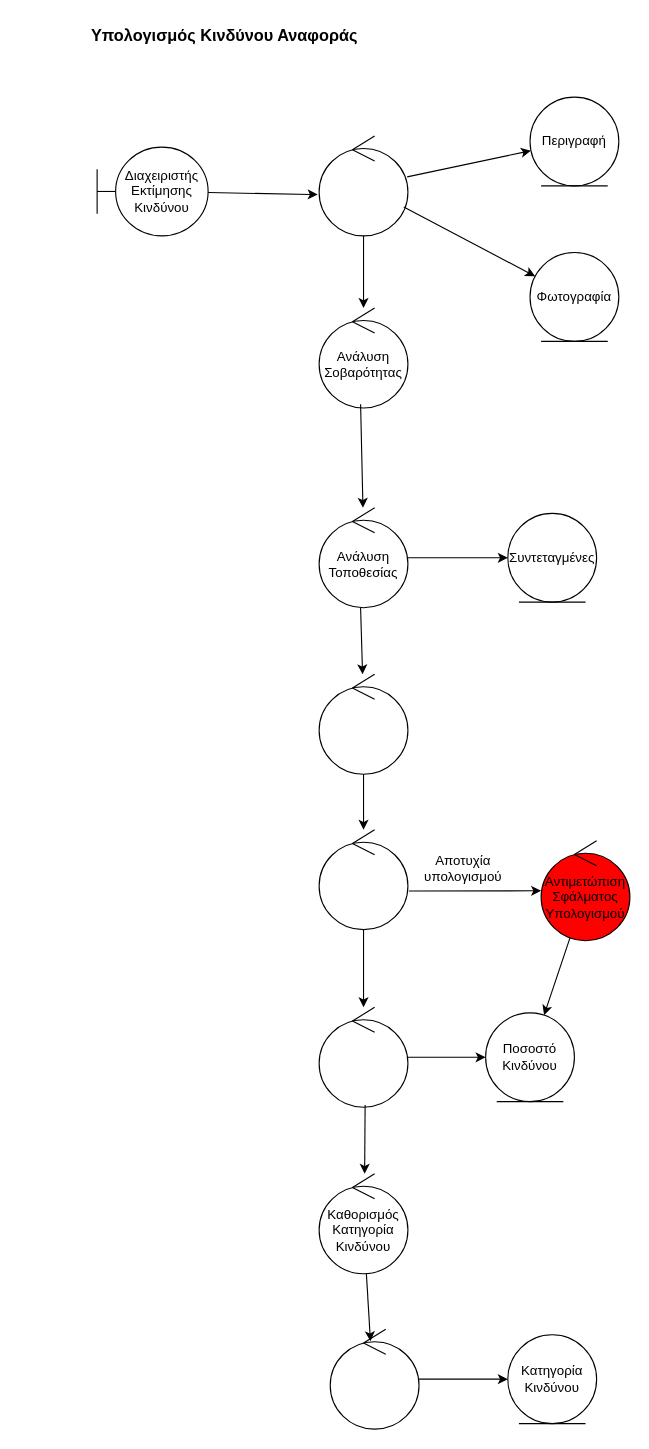
Image size: 649x1449. Some labels were removed from this diagram. Each missing label, with the centre of its shape:
Ανάλυση Περιεχομένου Αναφοράς: point (363, 185)
Καταχώρηση Κατηγορία Κινδύνου: point (374, 1378)
Καταχώρηση Ποσοστού Κινδύνου: point (363, 1056)
Συσχέτιση με Ιστορικά Δεδομένα: point (363, 723)
Υπολογισμός Ποσοστού Κινδύνου: point (363, 879)
